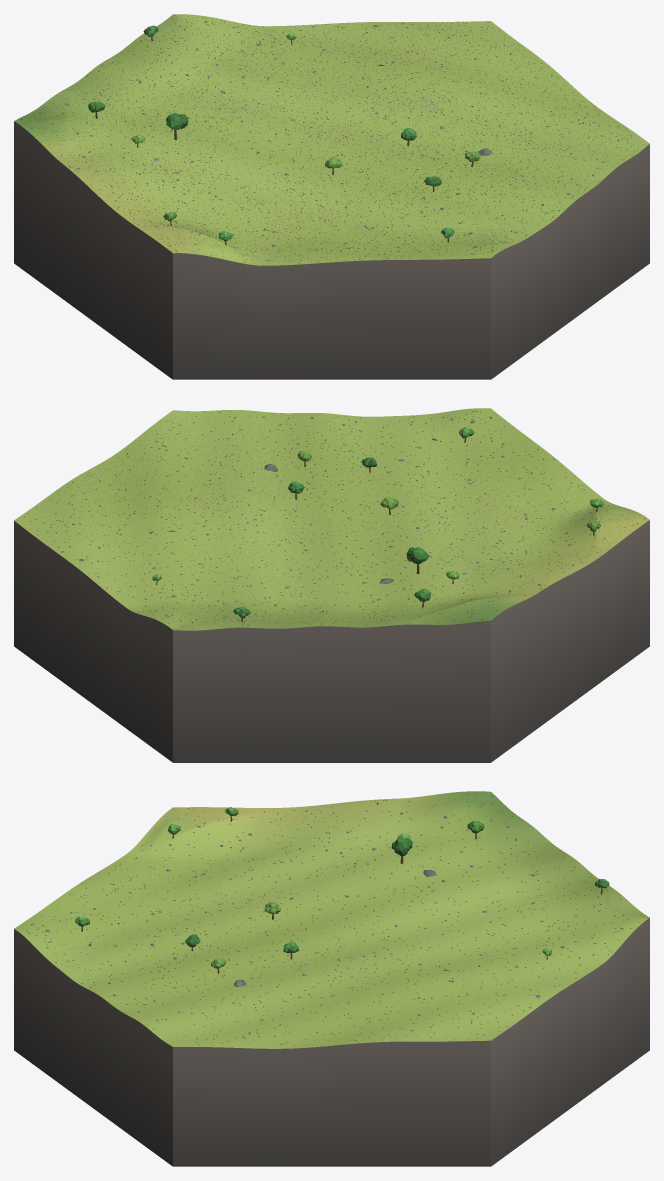
The picture shows the model from 3 angles, top to bottom: view 1: azimuth 30°, elevation 25°; view 2: azimuth 150°, elevation 25°; view 3: azimuth 270°, elevation 25°; orthographic projection.
Visible parts, largest first — view 1: terrain, hex_side_cut, wildflowers, shrubs, broadleaf_canopy, boulders; view 2: terrain, hex_side_cut, wildflowers, shrubs, broadleaf_canopy, boulders; view 3: terrain, hex_side_cut, shrubs, broadleaf_canopy, boulders.
Part boxes in pixels (left/top/right/bottom): terrain: left=14, top=14, right=649, bottom=265; hex_side_cut: left=14, top=121, right=649, bottom=379; wildflowers: left=17, top=14, right=643, bottom=264; shrubs: left=21, top=16, right=645, bottom=262; broadleaf_canopy: left=88, top=25, right=480, bottom=241; boulders: left=39, top=23, right=618, bottom=256; terrain: left=14, top=408, right=649, bottom=630; hex_side_cut: left=14, top=520, right=649, bottom=762; wildflowers: left=21, top=408, right=632, bottom=628; shrubs: left=25, top=411, right=645, bottom=628; broadleaf_canopy: left=152, top=427, right=603, bottom=618; boulders: left=35, top=416, right=599, bottom=623; terrain: left=14, top=791, right=649, bottom=1048; hex_side_cut: left=14, top=918, right=649, bottom=1166; shrubs: left=23, top=794, right=638, bottom=1046; broadleaf_canopy: left=75, top=807, right=609, bottom=968; boulders: left=31, top=802, right=600, bottom=1038.
Bounding box in the file's own units: 4330 × 1321 × 5000.
